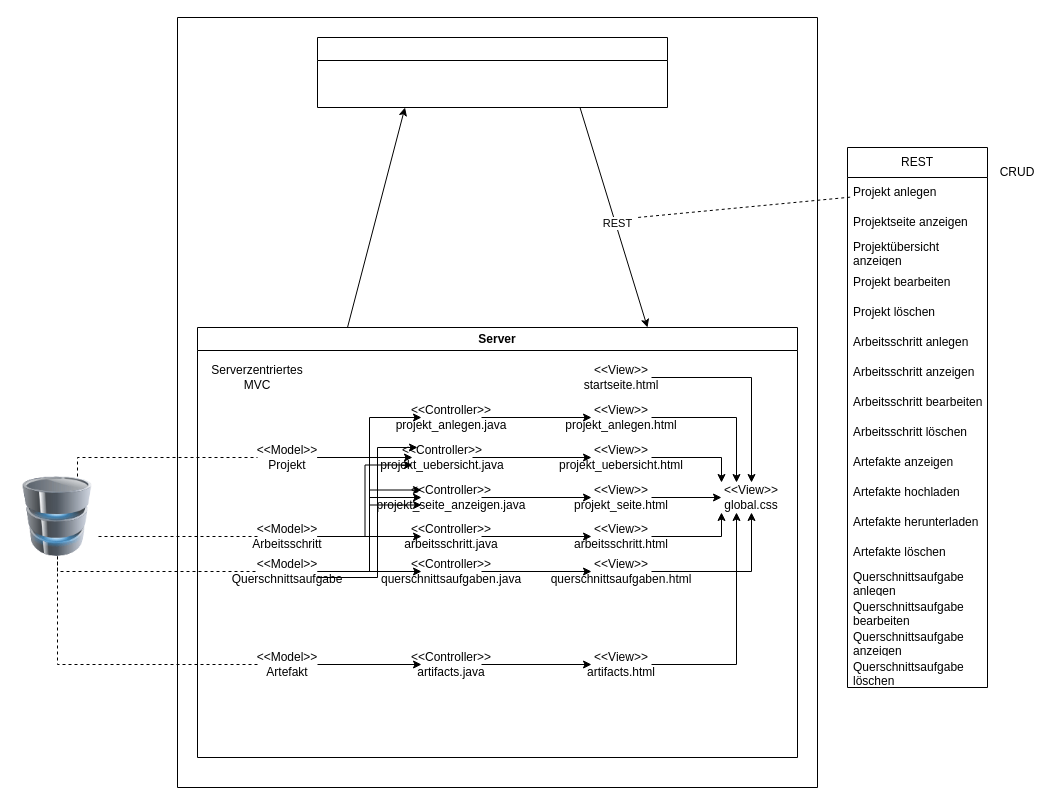
The diagram is 1064 pixels wide and 805 high, and some of its shapes have lost their labels. Each missing label, with the box of its shape:
Client: (316, 36, 668, 108)
Datenbank: (17, 476, 97, 556)
